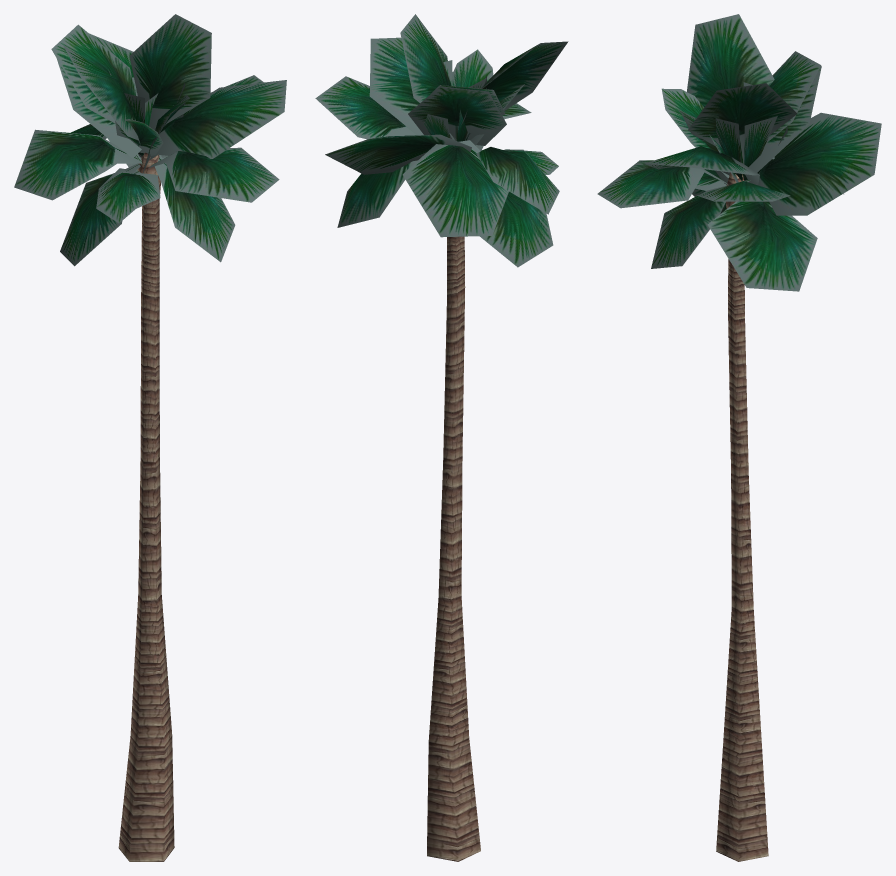
The model's file is palm_tree_d.fbx.
3 views of the same model, side by side, from view 1: azimuth 30°, elevation 25°; view 2: azimuth 150°, elevation 25°; view 3: azimuth 270°, elevation 25° (orthographic). The views are drawn at different scales.
Parts seen in each view (by area): view 1: hi_leaf_c, hi_trunk_a; view 2: hi_leaf_c, hi_trunk_a; view 3: hi_leaf_c, hi_trunk_a.
Boxes of the visible parts, x1,y1,x2,y2 form: hi_leaf_c: (14,14,286,266); hi_trunk_a: (118,152,174,861); hi_leaf_c: (315,14,568,267); hi_trunk_a: (427,236,480,861); hi_leaf_c: (597,14,881,291); hi_trunk_a: (716,172,768,861).
Bounding box in the file's own units: 1698 × 5680 × 1840.
Materials: 2 (2 with a texture image).
